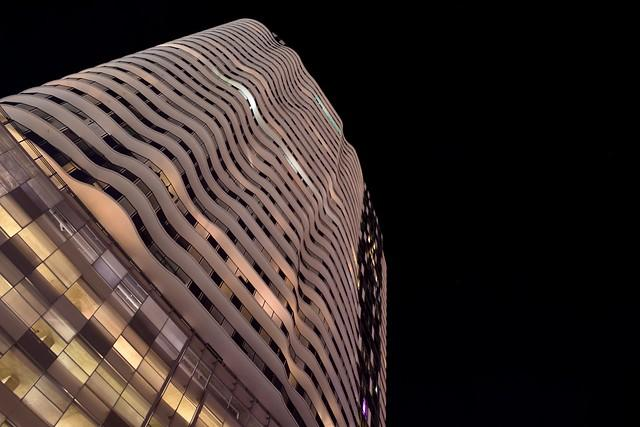building: (0, 15, 392, 420)
